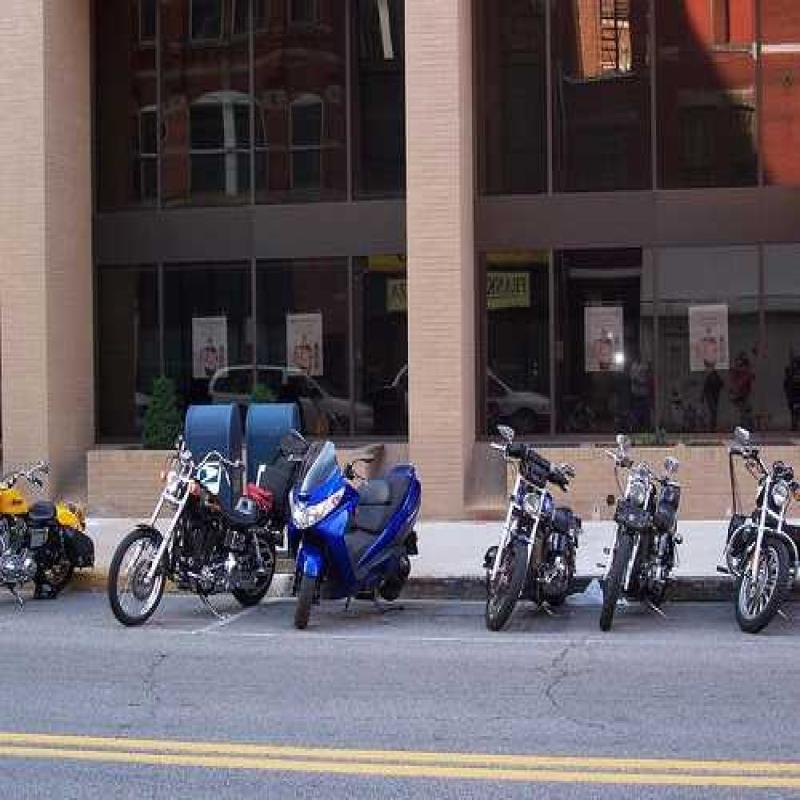bike: (275, 420, 432, 615), (102, 424, 268, 602), (472, 406, 583, 635), (595, 434, 693, 619), (717, 421, 800, 620)
